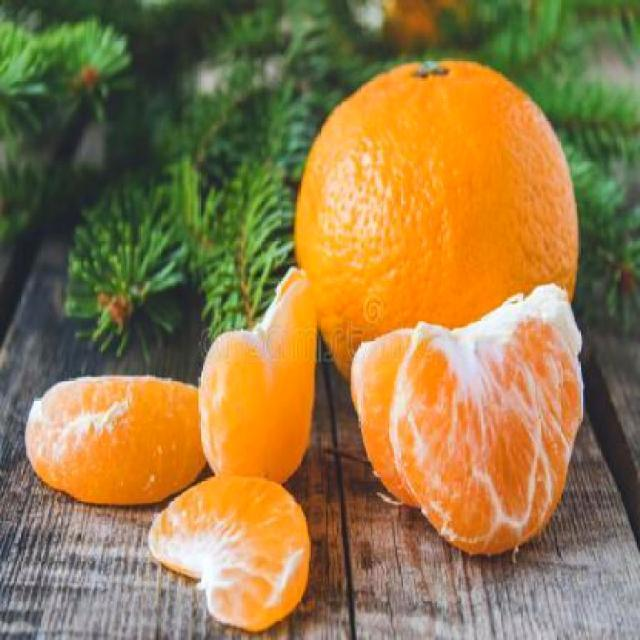Jeruk Sudah Matang: (296, 53, 575, 442)
